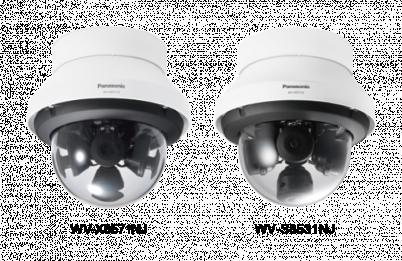maru: (25, 23, 194, 207), (212, 25, 376, 207)
